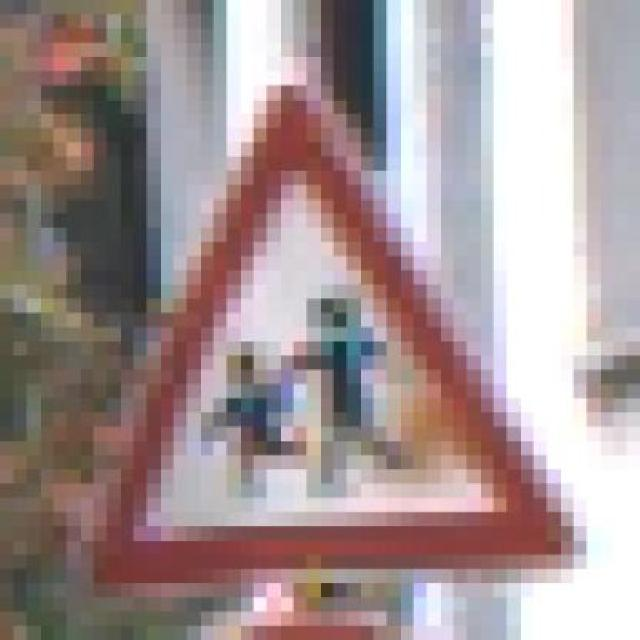Beware of children: (80, 71, 600, 597)
